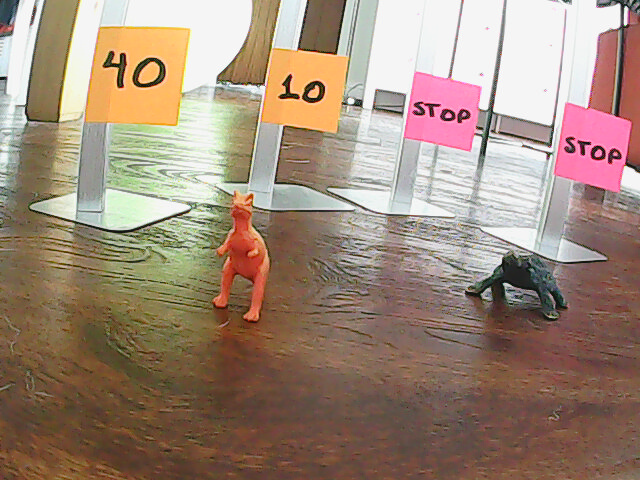10: (269, 60, 337, 117)
40: (91, 35, 178, 117)
dinosaur: (209, 187, 268, 329)
stop: (561, 116, 624, 172), (411, 90, 474, 136)
turtle: (460, 246, 573, 325)
